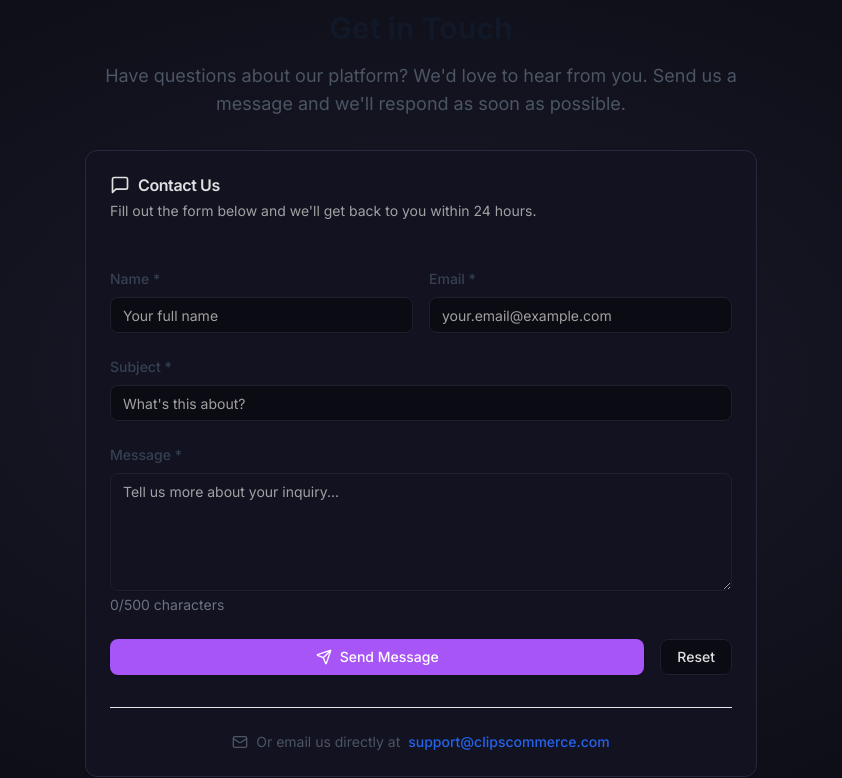
ContactSection › Form Interaction › should show character count for message field
Expected: the text "0/500 characters" is shown, [110, 596, 224, 613]
// Type some text
Type "Hello world" into the text box labelled "Message *" at point(421, 532), box [110, 473, 732, 591]
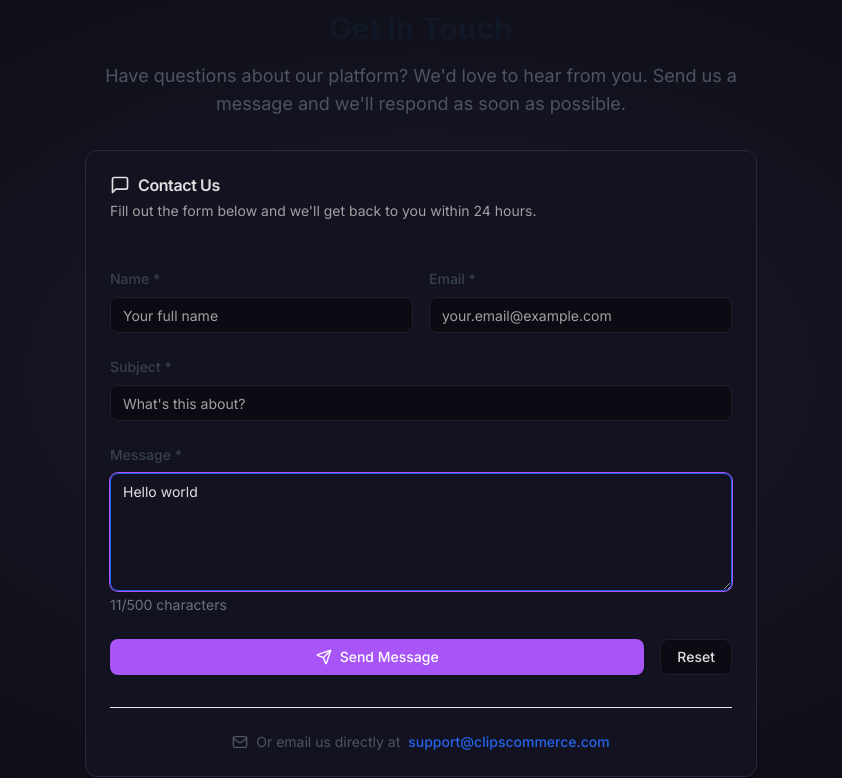
Expected: the text "11/500 characters" is shown, [110, 596, 227, 613]
